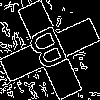B: (25, 25, 75, 80)
